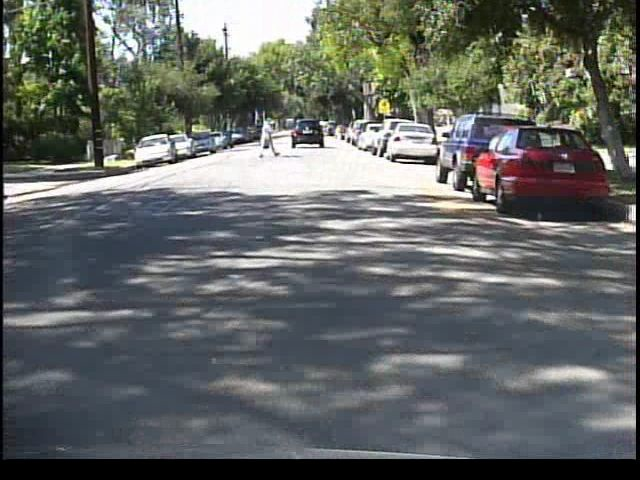person: (257, 110, 283, 157)
